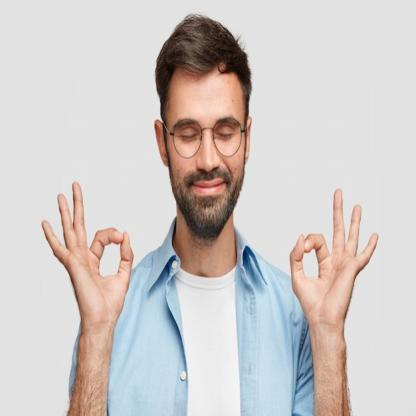ok: (35, 178, 136, 328), (286, 184, 380, 340)
